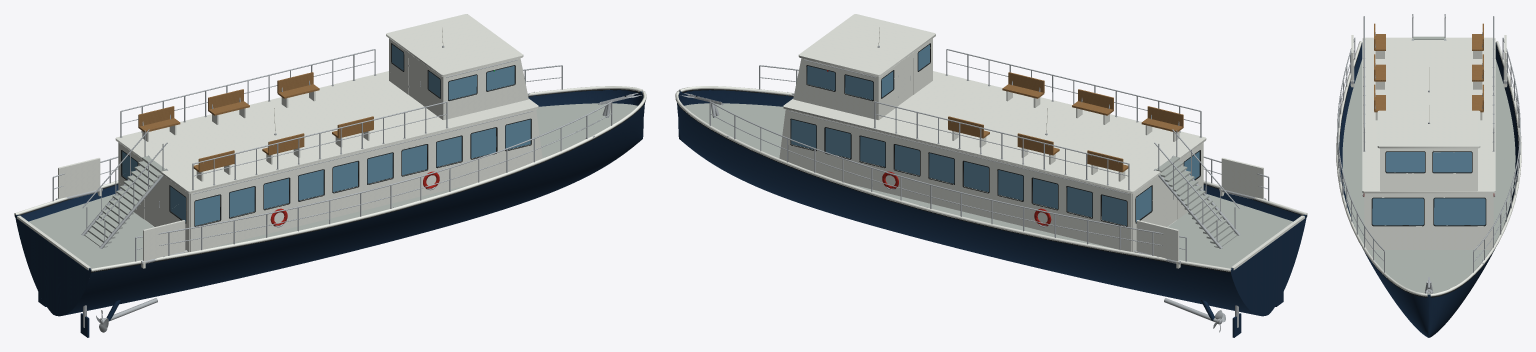
Rendered from innerscene-passenger-ferry.glb.
3 renders of one model, left to right at view 1: azimuth 30°, elevation 25°; view 2: azimuth 150°, elevation 25°; view 3: azimuth 270°, elevation 25°, orthographic. The views are drawn at different scales.
Visible parts, largest first — view 1: InnerscenePassengerFerry, PortGate; view 2: InnerscenePassengerFerry, PortGate; view 3: InnerscenePassengerFerry.
Part boxes in pixels (<box>): InnerscenePassengerFerry: <box>14,14,646,337</box>; PortGate: <box>143,220,185,261</box>; InnerscenePassengerFerry: <box>675,14,1307,337</box>; PortGate: <box>1221,158,1263,198</box>; InnerscenePassengerFerry: <box>1336,14,1521,337</box>.
Size of the model in its own units: 25.09 by 8.16 by 7.57.
12 materials, 12 textured.
